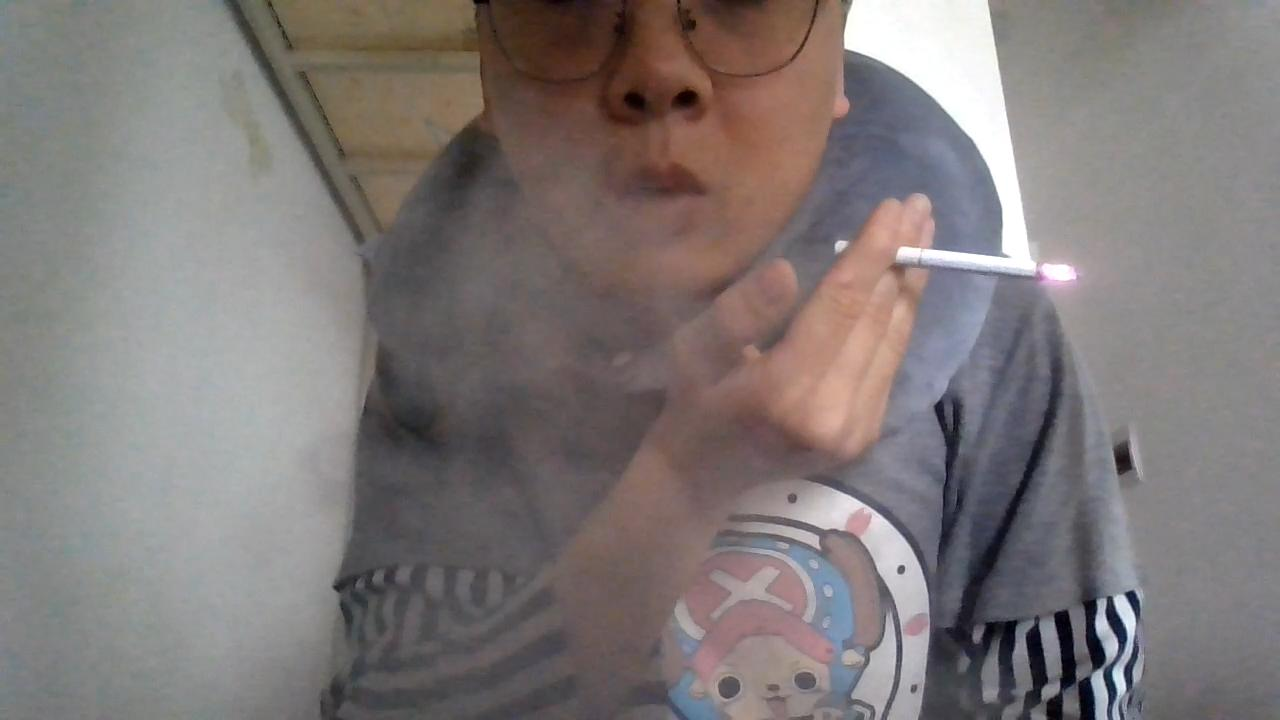yanwu: (341, 157, 702, 569)
